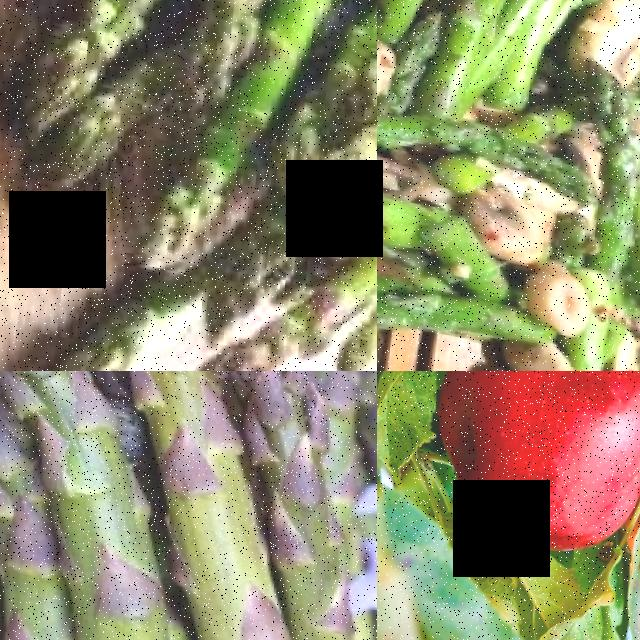apple: (426, 371, 640, 566)
asparagus: (58, 444, 168, 640), (377, 84, 573, 192), (377, 254, 520, 371), (427, 0, 562, 120), (109, 371, 209, 458), (0, 371, 34, 567), (227, 371, 307, 452)
